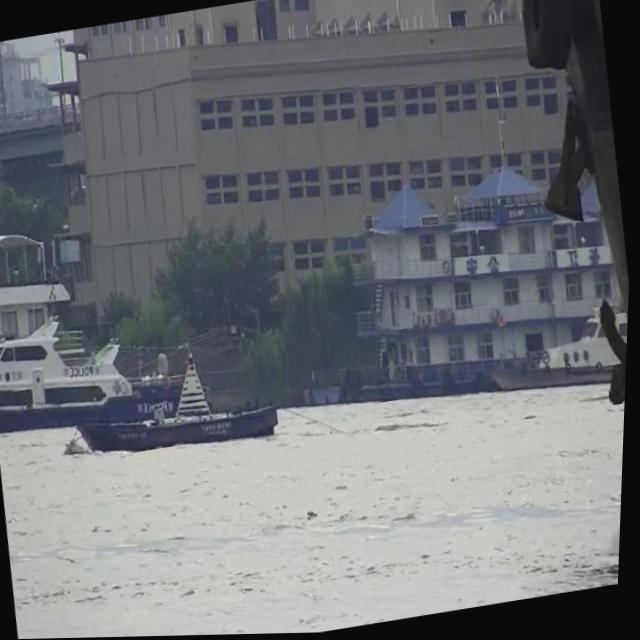ship2: (82, 358, 281, 453)
